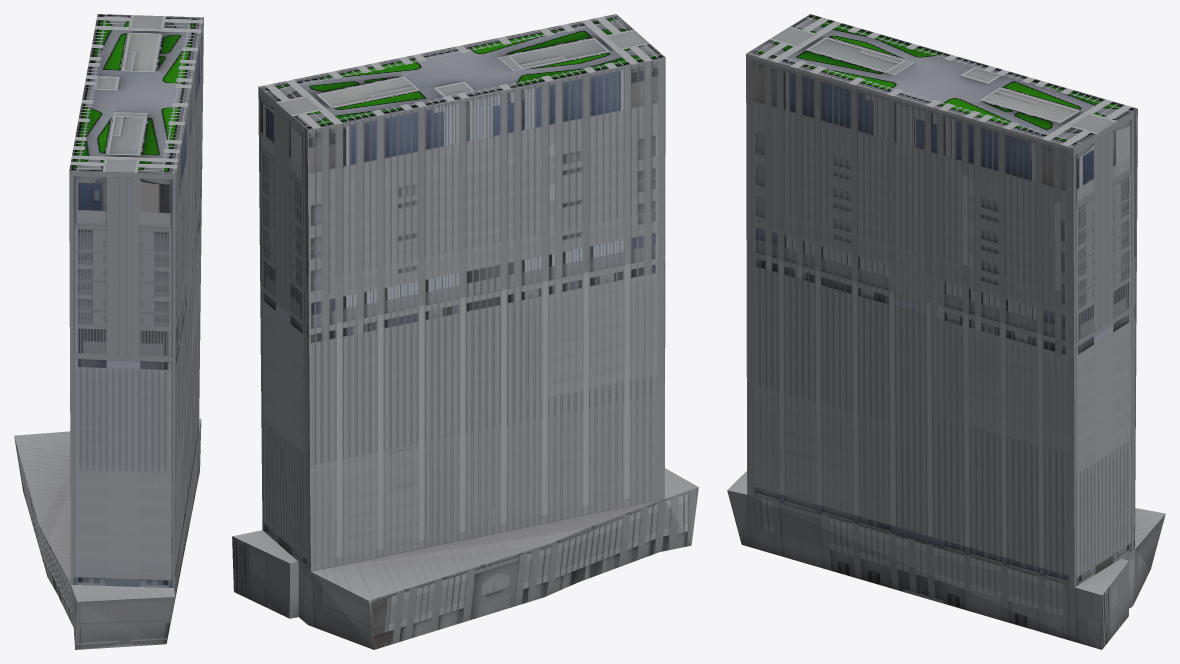
Rendered from 404neww.glb.
3 renders of one model, left to right at view 1: azimuth 30°, elevation 25°; view 2: azimuth 150°, elevation 25°; view 3: azimuth 270°, elevation 25°, orthographic. The views are drawn at different scales.
Visible parts, largest first — view 1: 404.001; view 2: 404.001; view 3: 404.001.
Part boxes in pixels (box(x1,y1,x2,y2)): 404.001: box(14, 14, 203, 649); 404.001: box(232, 14, 698, 649); 404.001: box(727, 14, 1165, 649).
Bounding box in the file's own units: 69.09 × 110 × 87.74.
1 material, 1 textured.
